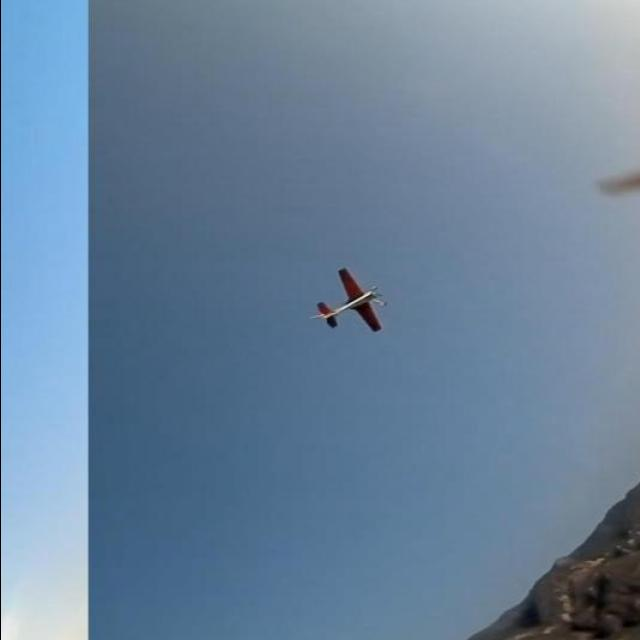plane: (308, 265, 387, 332)
